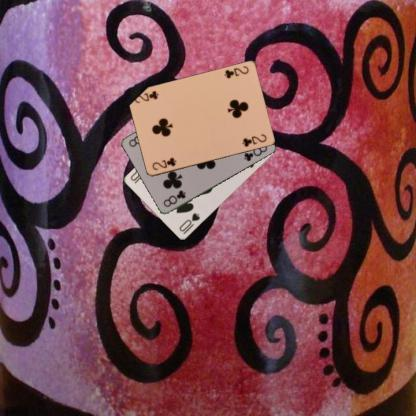10s: (177, 210, 201, 236)
2c: (150, 154, 177, 172), (221, 64, 250, 80)
8c: (161, 187, 187, 208)
